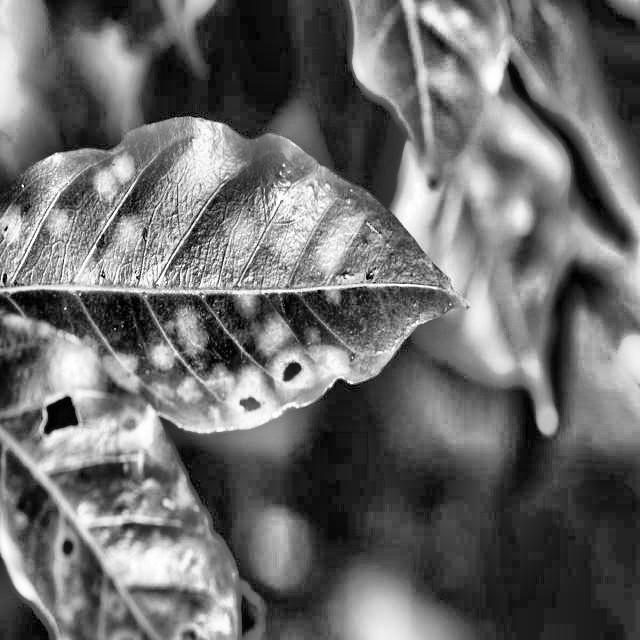plants: (0, 130, 446, 420), (5, 425, 302, 639)
